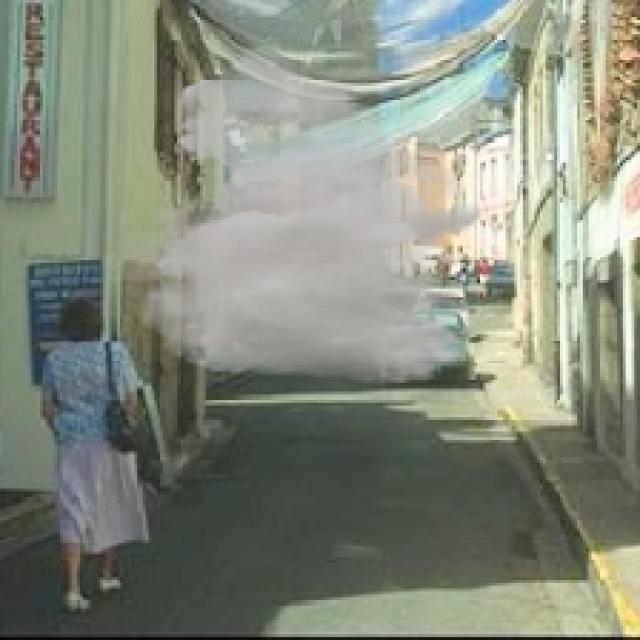smoke: (91, 34, 486, 386)
